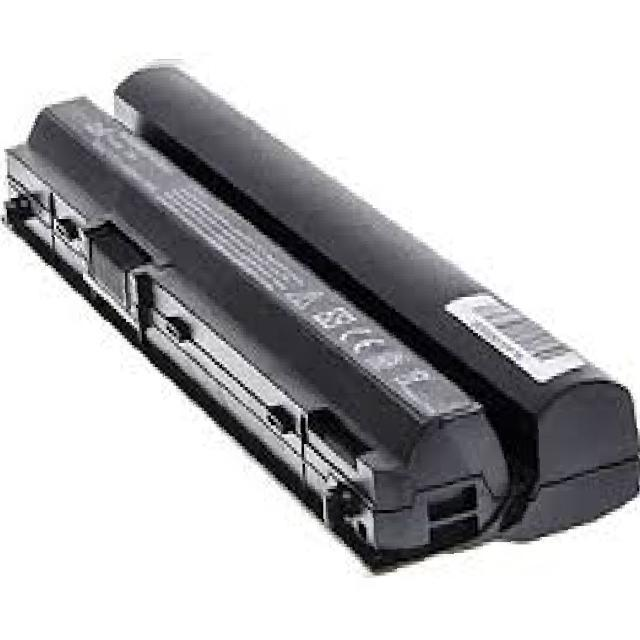Battery: (0, 23, 640, 640)
